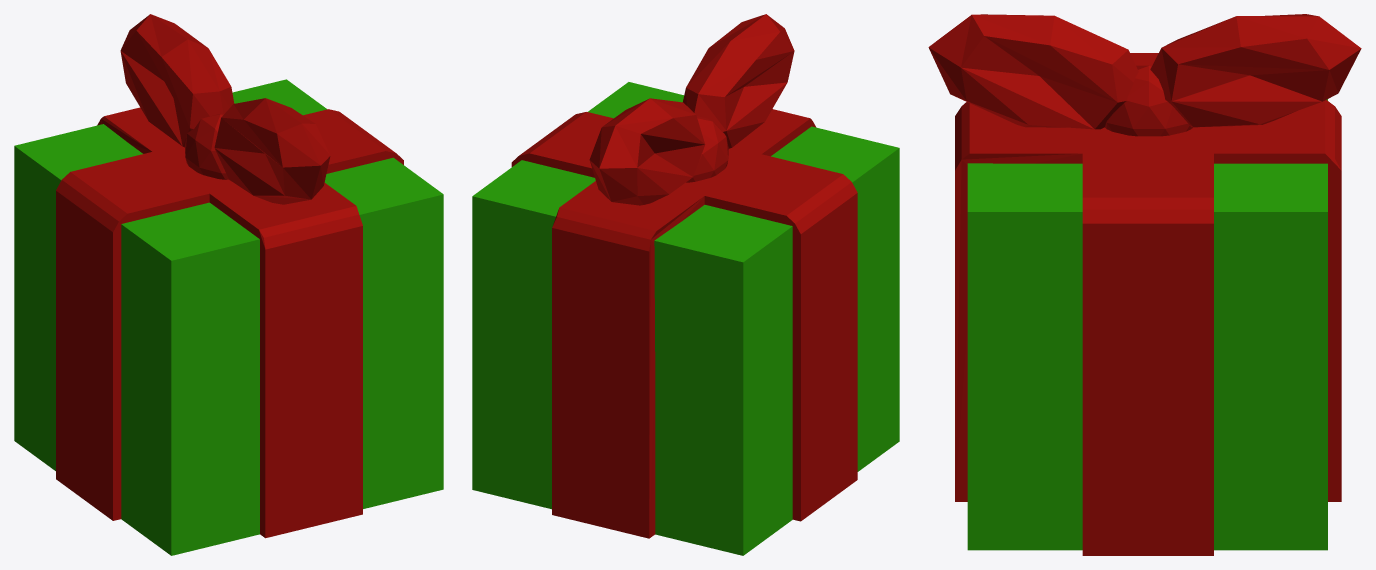
The model's file is banana.obj.
The picture shows the model from 3 angles, left to right: view 1: azimuth 30°, elevation 25°; view 2: azimuth 150°, elevation 25°; view 3: azimuth 270°, elevation 25°; orthographic projection. The views are drawn at different scales.
Parts seen in each view (by area): view 1: Cube_Cube.001; view 2: Cube_Cube.001; view 3: Cube_Cube.001.
Boxes of the visible parts, x1,y1,x2,y2 form: Cube_Cube.001: [14, 14, 443, 555]; Cube_Cube.001: [472, 14, 899, 555]; Cube_Cube.001: [928, 14, 1361, 555].
Bounding box in the file's own units: 1.84 × 2.41 × 2.07.
